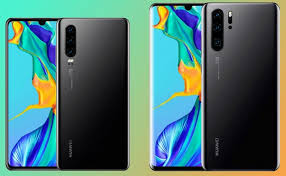huawei: (203, 1, 279, 170), (55, 15, 131, 171), (146, 3, 201, 170), (2, 14, 56, 170)
